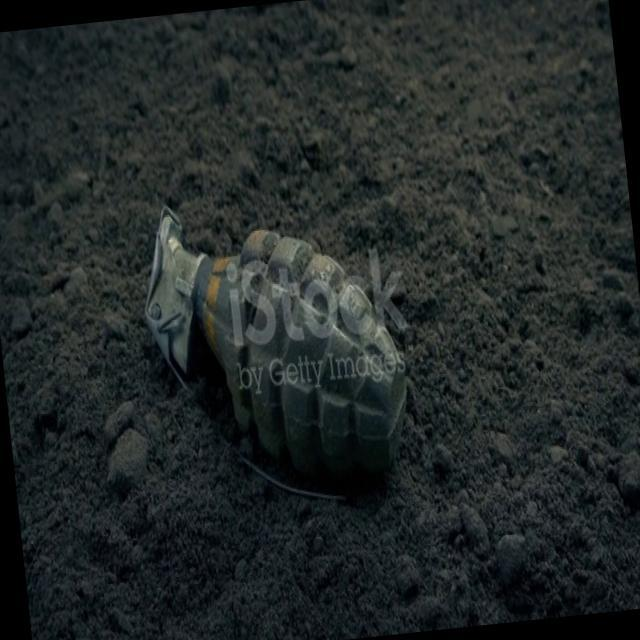grenade: (134, 178, 416, 508)
